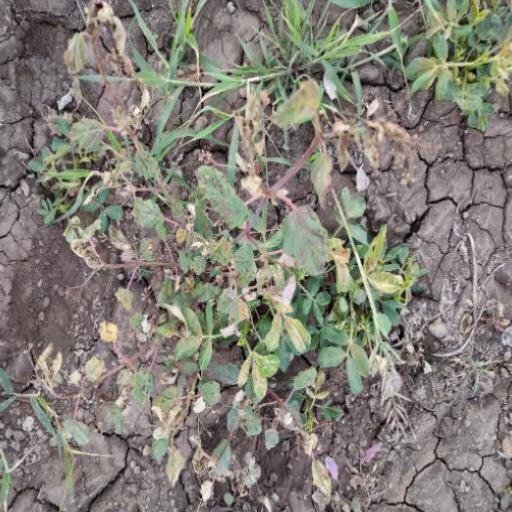weed: (100, 165, 450, 483), (63, 11, 512, 124)
